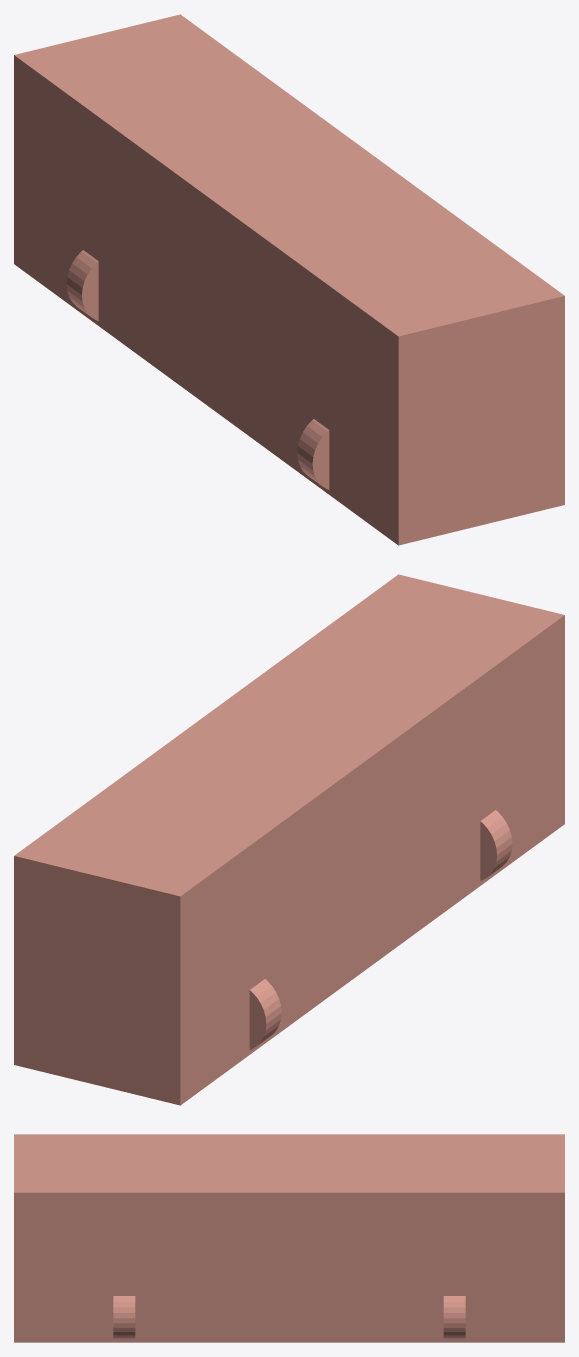
The model's file is bus.glb.
The picture shows the model from 3 angles, top to bottom: view 1: azimuth 30°, elevation 25°; view 2: azimuth 150°, elevation 25°; view 3: azimuth 270°, elevation 25°; orthographic projection. The views are drawn at different scales.
Visible parts, largest first — view 1: world; view 2: world; view 3: world.
Boxes of the visible parts, <box> form: world: <box>14,14,564,545</box>; world: <box>14,574,564,1105</box>; world: <box>14,1134,564,1342</box>.
Bounding box in the file's own units: 3 × 3 × 10.
